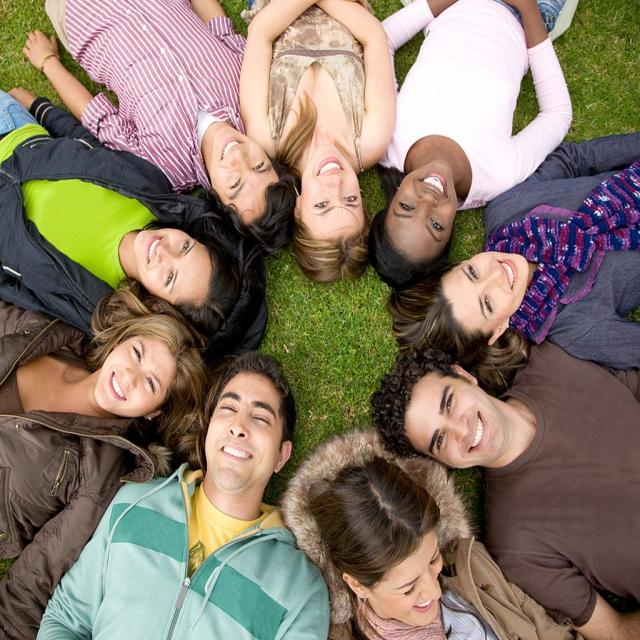Face: (202, 372, 298, 490), (401, 368, 510, 466), (101, 334, 186, 426), (300, 145, 371, 252), (447, 258, 544, 335), (205, 129, 281, 225), (118, 230, 216, 303), (131, 231, 218, 307), (367, 556, 458, 626), (394, 171, 459, 269)
